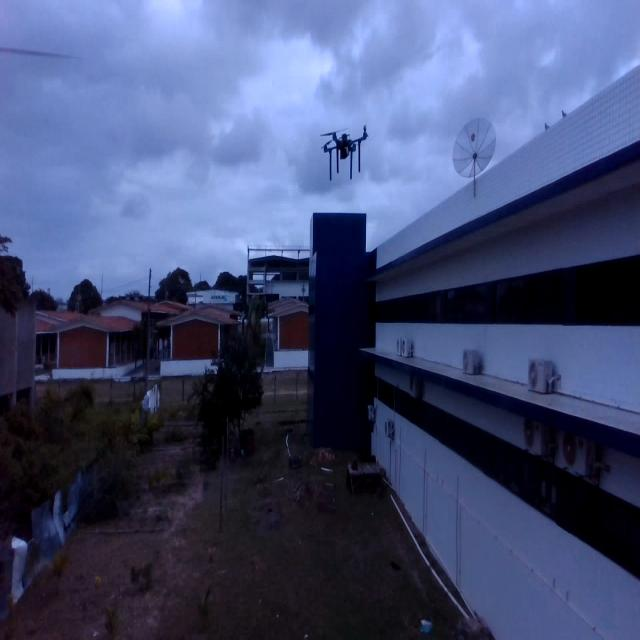-uav-: (314, 118, 374, 186)
